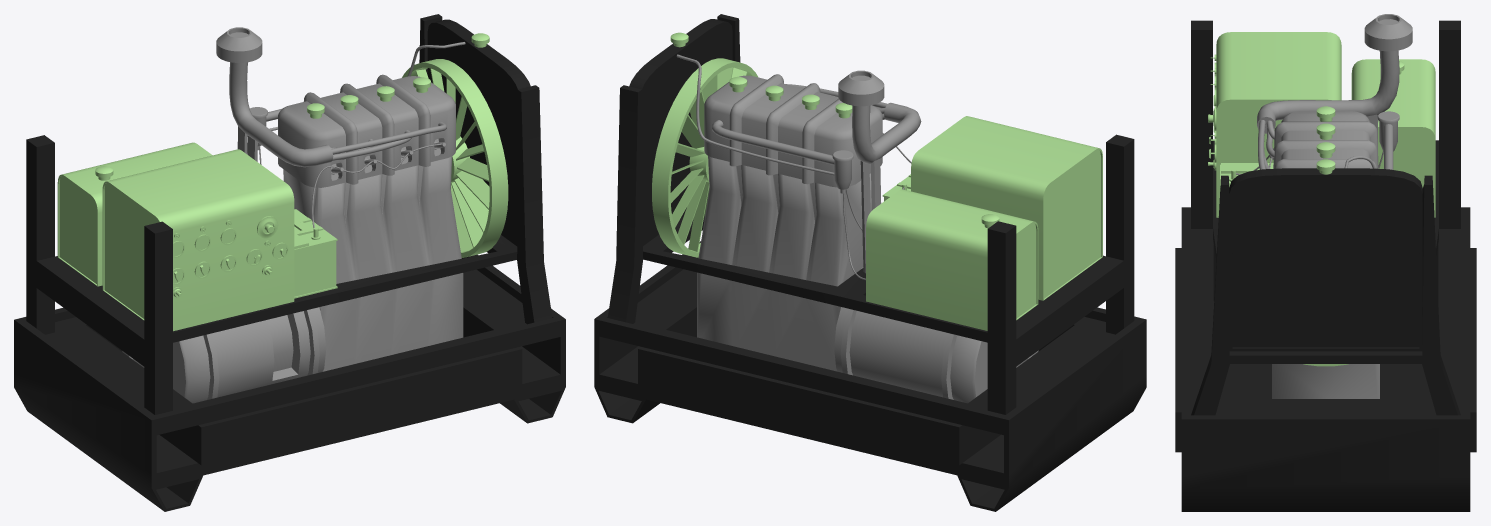
The model's file is Diesel_Generator_01.FBX.
3 renders of one model, left to right at view 1: azimuth 30°, elevation 25°; view 2: azimuth 150°, elevation 25°; view 3: azimuth 270°, elevation 25°, orthographic. The views are drawn at different scales.
Parts seen in each view (by area): view 1: Box007; view 2: Box007; view 3: Box007.
Part boxes in pixels (box(x1,y1,x2,y2)): Box007: box(14, 14, 565, 511); Box007: box(594, 14, 1146, 511); Box007: box(1175, 14, 1476, 511).
Bounding box in the file's own units: 160 × 135 × 96.
